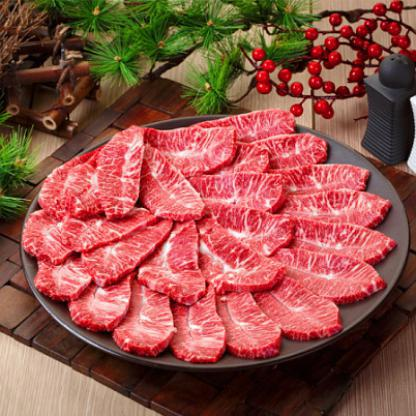beef: (50, 119, 396, 350)
